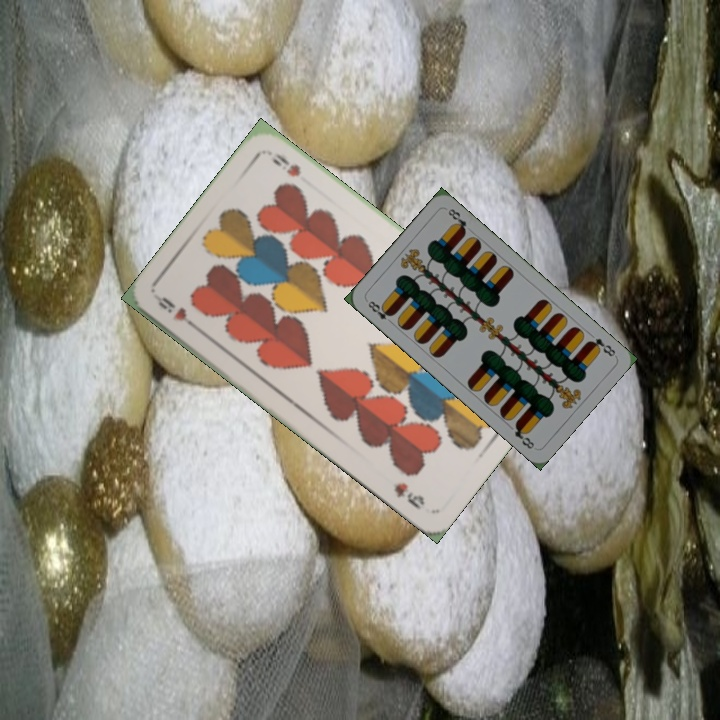E8: (363, 296, 396, 327), (584, 334, 618, 359)
H9: (152, 292, 203, 334)
